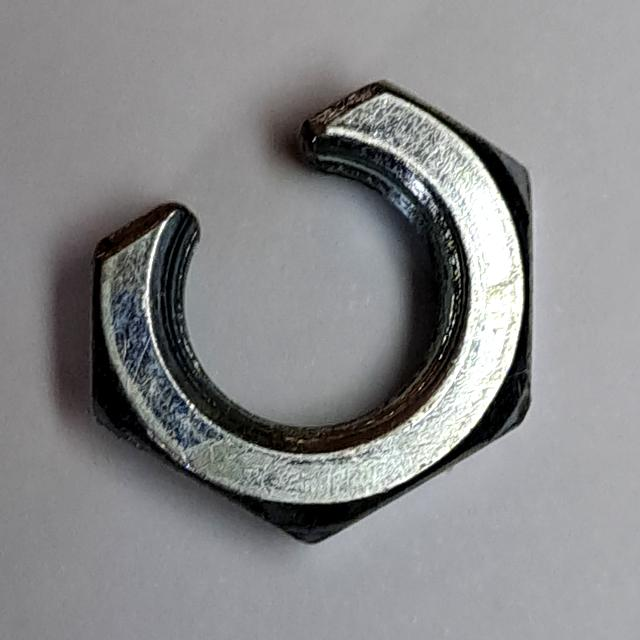Fracture: (76, 68, 550, 559)
